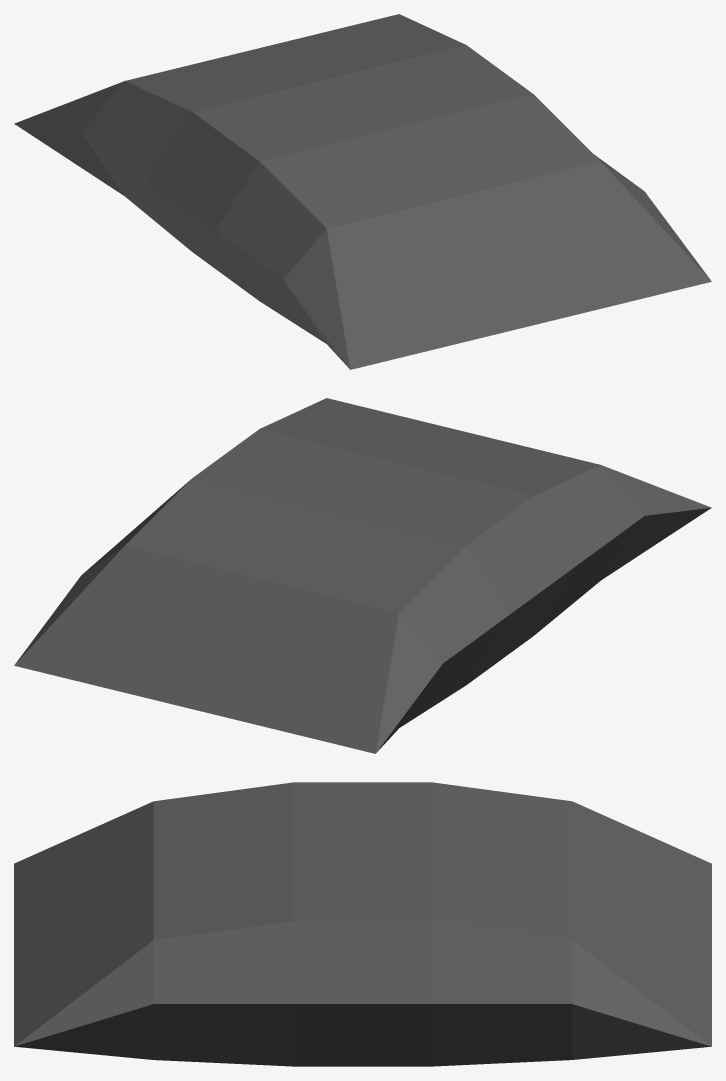
File: Bedroom_Pillow_2.fbx
The picture shows the model from 3 angles, top to bottom: view 1: azimuth 30°, elevation 25°; view 2: azimuth 150°, elevation 25°; view 3: azimuth 270°, elevation 25°; orthographic projection. The views are drawn at different scales.
Parts seen in each view (by area): view 1: Bedroom_Pillow_2; view 2: Bedroom_Pillow_2; view 3: Bedroom_Pillow_2.
Part boxes in pixels (x1,y1,x2,y2): Bedroom_Pillow_2: (14, 14, 711, 369); Bedroom_Pillow_2: (14, 398, 711, 753); Bedroom_Pillow_2: (14, 782, 711, 1066).
Size of the model in its own units: 65.34 by 24.17 by 105.
